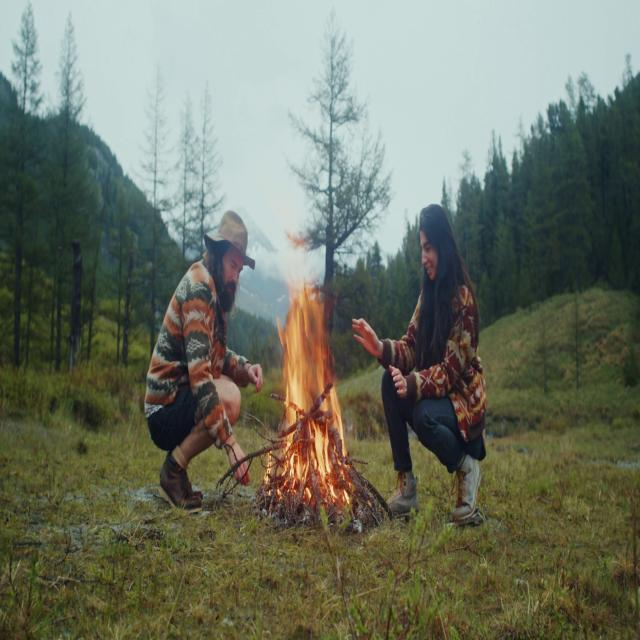Fire: (267, 250, 352, 504)
